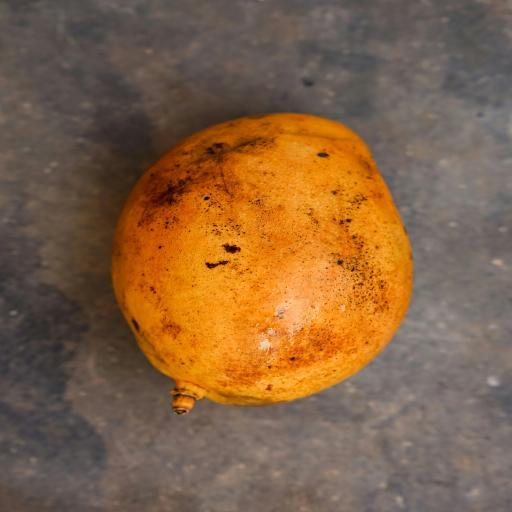mango: (113, 112, 423, 414)
